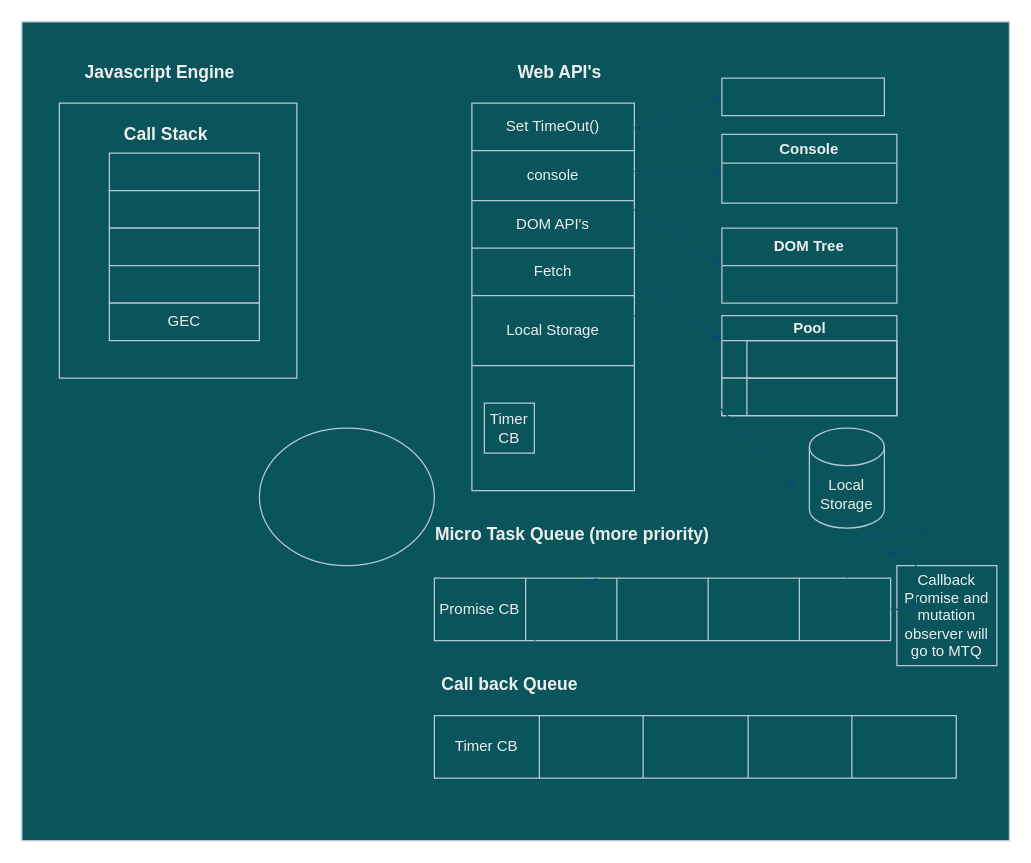
This 1031x863 diagram has some shape labels left out. Here are the shapes that lost their labels. From the top down, the box of each, then its label:
(721, 77, 884, 116): Timer
(721, 339, 897, 378): Fetch 1
(721, 377, 897, 416): Fetch 2
(258, 427, 434, 566): Event Loop
